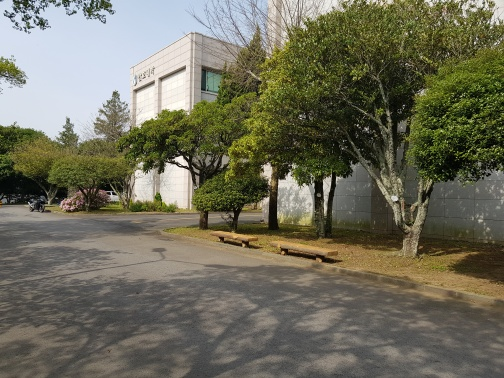College of Nursing: (114, 33, 218, 200)
